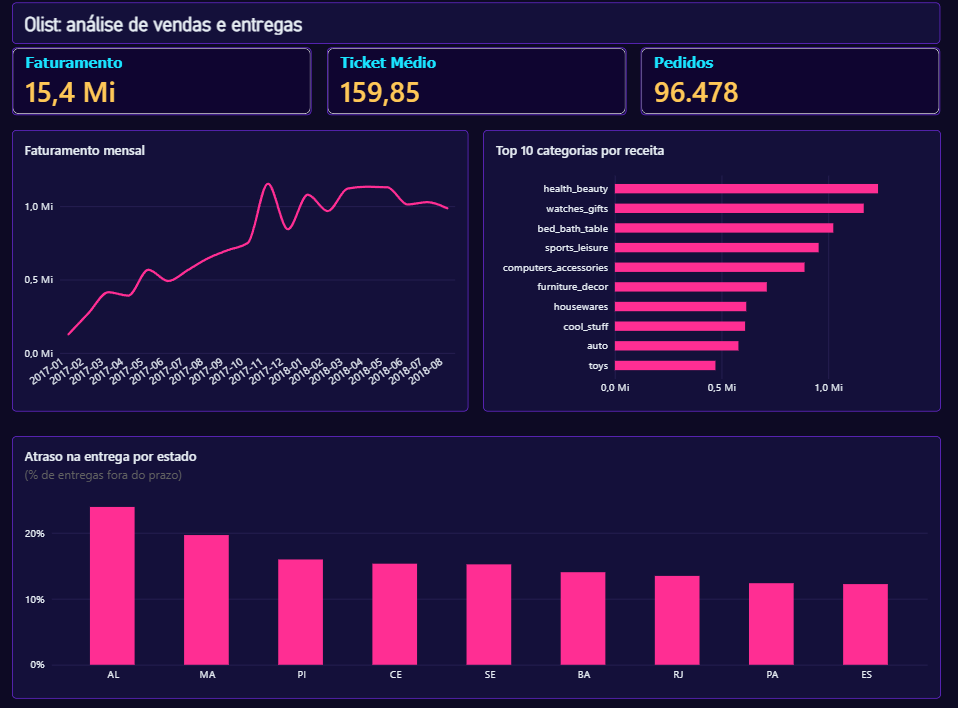

This screenshot's page, from the dashboard's own definition file:
{"tool":"powerbi","page":{"name":"Página 1","canvas":[1920,1080],"ordinal":0},"visuals":[{"type":"cardVisual","fields":{"Data":["olist_orders_dataset.Faturamento"]},"box":[20,70,400,90],"z":1},{"type":"cardVisual","fields":{"Data":["olist_orders_dataset.Pedidos"]},"box":[860,70,400,90],"z":2},{"type":"cardVisual","fields":{"Data":["olist_orders_dataset.Ticket Médio"]},"box":[440,70,400,90],"z":3},{"type":"lineChart","title":"Faturamento mensal","fields":{"Category":["olist_orders_dataset.Mes"],"Y":["olist_orders_dataset.Faturamento"]},"box":[20,180.3,609.5,375.7],"z":4},{"type":"barChart","title":"Top 10 categorias por receita","fields":{"Category":["product_category_name_translation.product_category_name_english"],"Y":["olist_orders_dataset.Receita Produtos"]},"box":[649.5,180.3,611.1,375.7],"z":5},{"type":"columnChart","title":"Atraso na entrega por estado","fields":{"Category":["olist_customers_dataset.customer_state"],"Y":["olist_orders_dataset.% Atraso"]},"box":[20,589.4,1240.6,350.7],"z":6},{"type":"cardVisual","fields":{"Data":["olist_orders_dataset.Título"]},"box":[20,10,1240,55],"z":7}]}

Visuals, with their boxes on the page's 1920x1080 design canvas (x1, y1, x2, y2). These are canvas units, not pixel positions in the 958x708 screenshot, which may show the page scaled, cropped or inside an application window:
cardVisual - olist_orders_dataset.Faturamento: [20, 70, 420, 160]
cardVisual - olist_orders_dataset.Pedidos: [860, 70, 1260, 160]
cardVisual - olist_orders_dataset.Ticket Médio: [440, 70, 840, 160]
"Faturamento mensal" lineChart: [20, 180, 630, 556]
"Top 10 categorias por receita" barChart: [650, 180, 1261, 556]
"Atraso na entrega por estado" columnChart: [20, 589, 1261, 940]
cardVisual - olist_orders_dataset.Título: [20, 10, 1260, 65]
